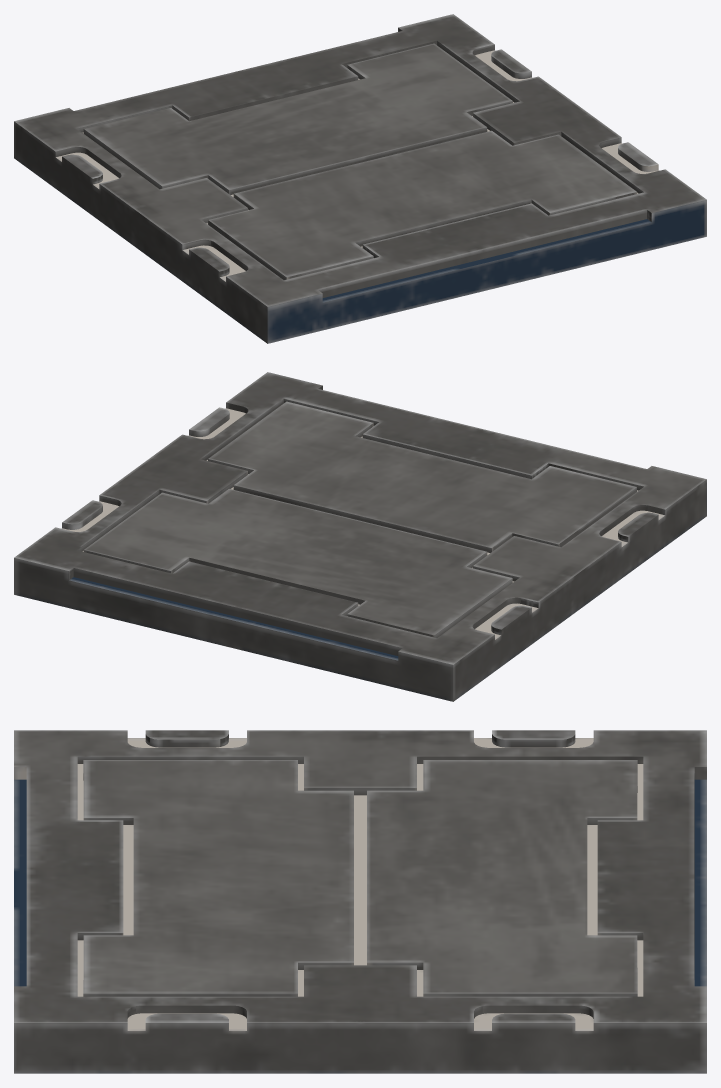
The model's file is FUT0510035.fbx.
The picture shows the model from 3 angles, top to bottom: view 1: azimuth 30°, elevation 25°; view 2: azimuth 150°, elevation 25°; view 3: azimuth 270°, elevation 25°; orthographic projection. The views are drawn at different scales.
Parts seen in each view (by area): view 1: smFUT0510035; view 2: smFUT0510035; view 3: smFUT0510035.
Part boxes in pixels (x1=…): smFUT0510035: x1=14, y1=14, x2=706, y2=343; smFUT0510035: x1=14, y1=372, x2=706, y2=701; smFUT0510035: x1=14, y1=730, x2=706, y2=1073.
Size of the model in its own units: 168 by 13.53 by 168.
1 material, 1 textured.
